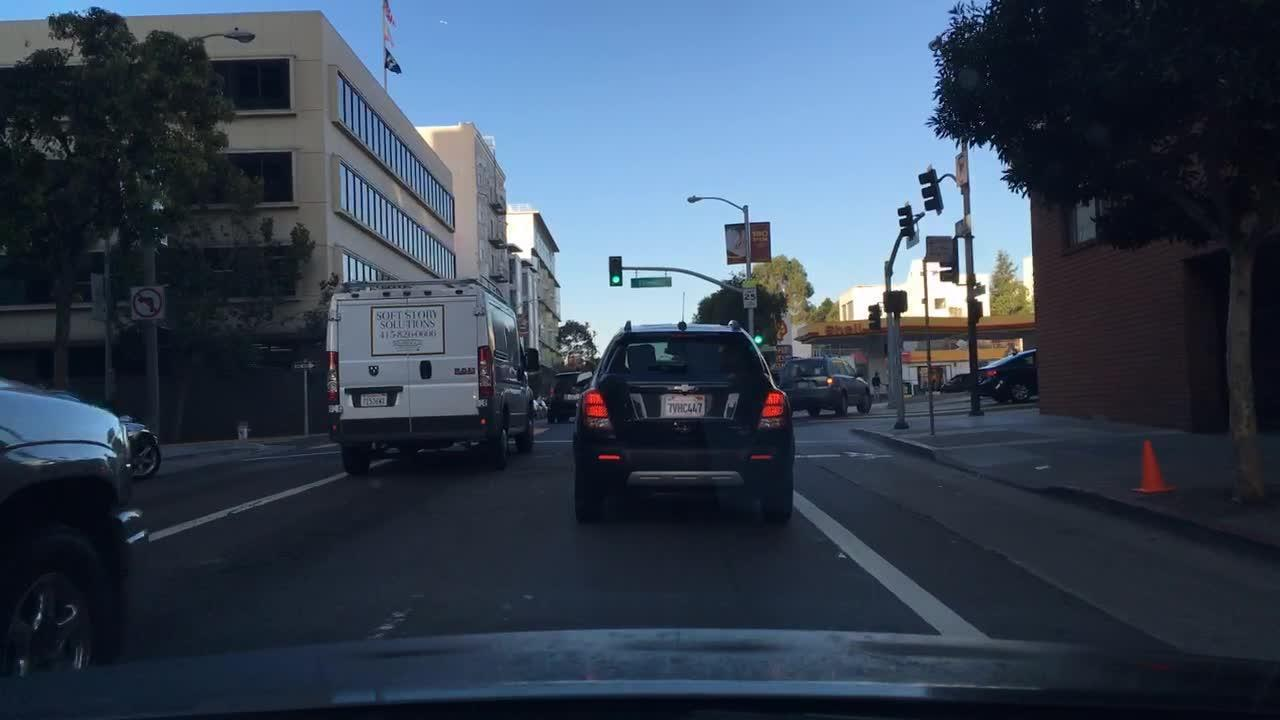chevrolet: (669, 382, 701, 397)
ram: (368, 363, 382, 379)
